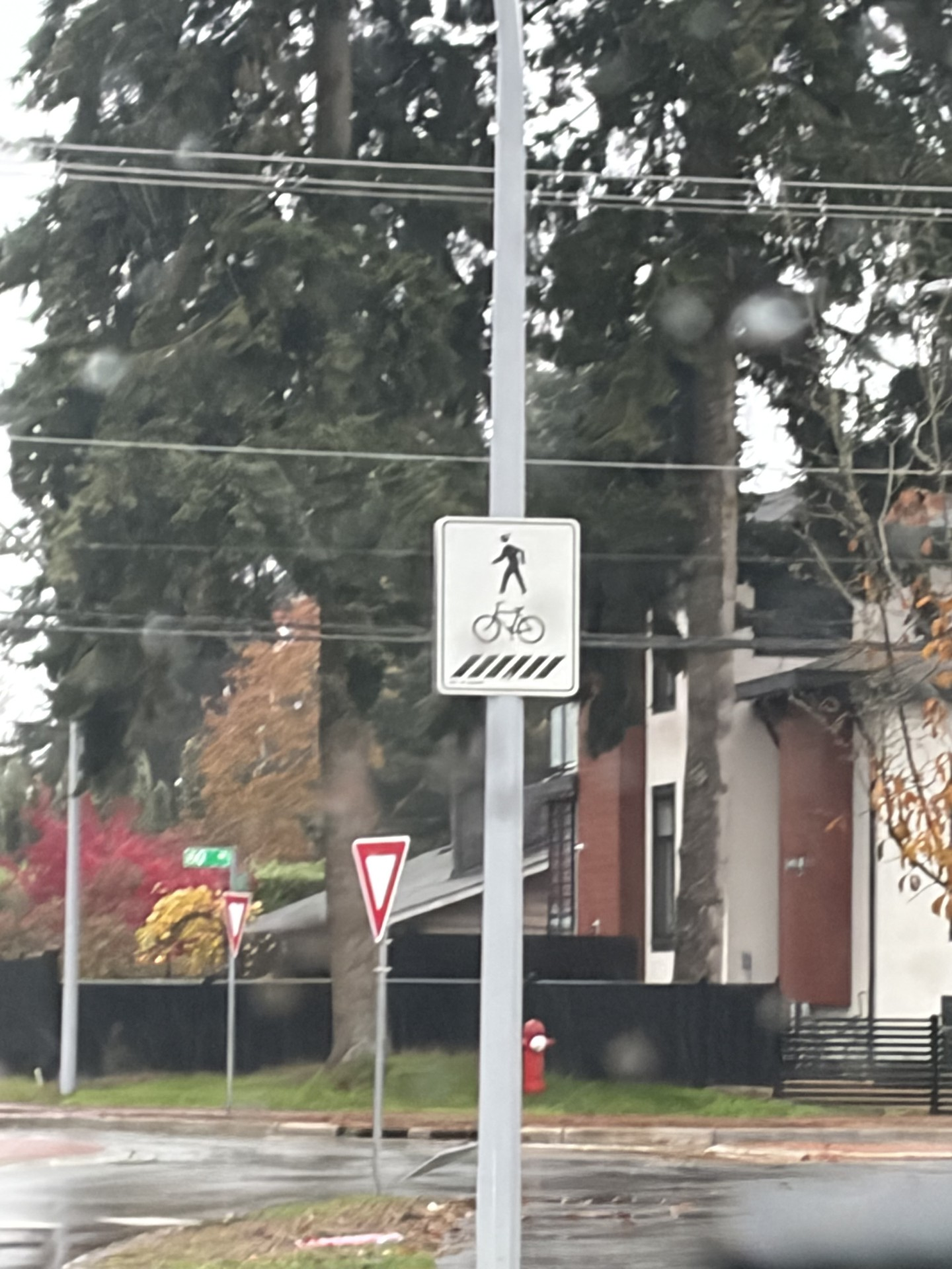pedestrian_crossing: (456, 497, 572, 617)
yield: (328, 802, 425, 957), (212, 877, 272, 981)
